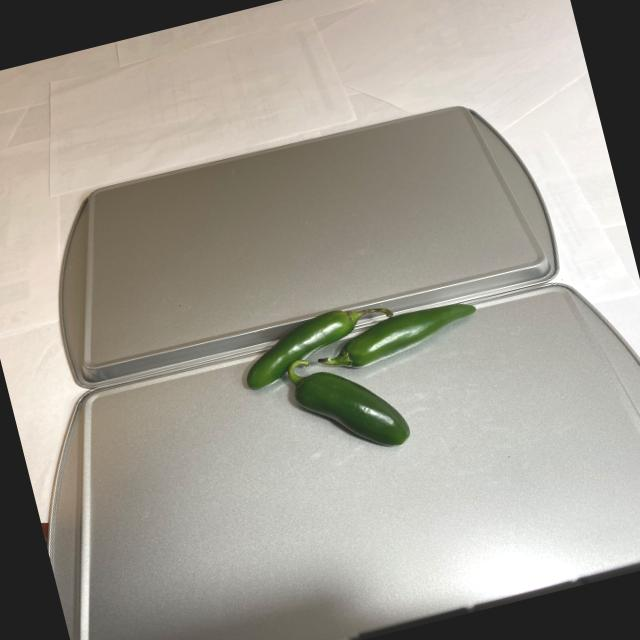chilli: (218, 272, 511, 486)
